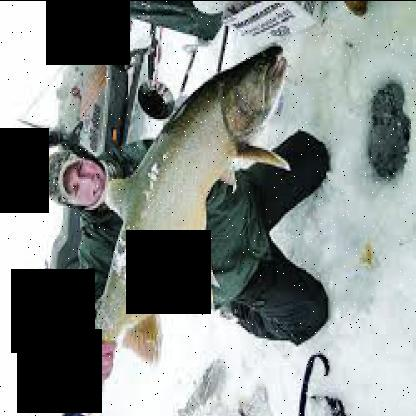fish: (74, 43, 290, 416)
